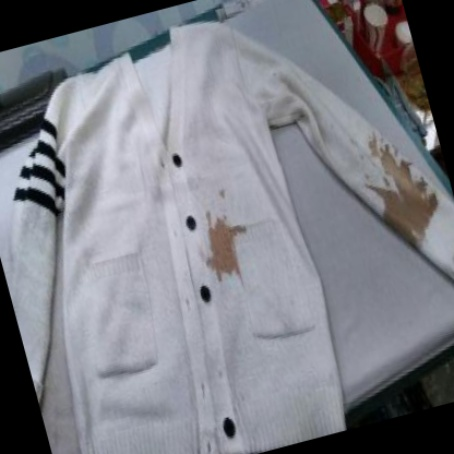coffee: (376, 177, 440, 242), (205, 221, 241, 279)
